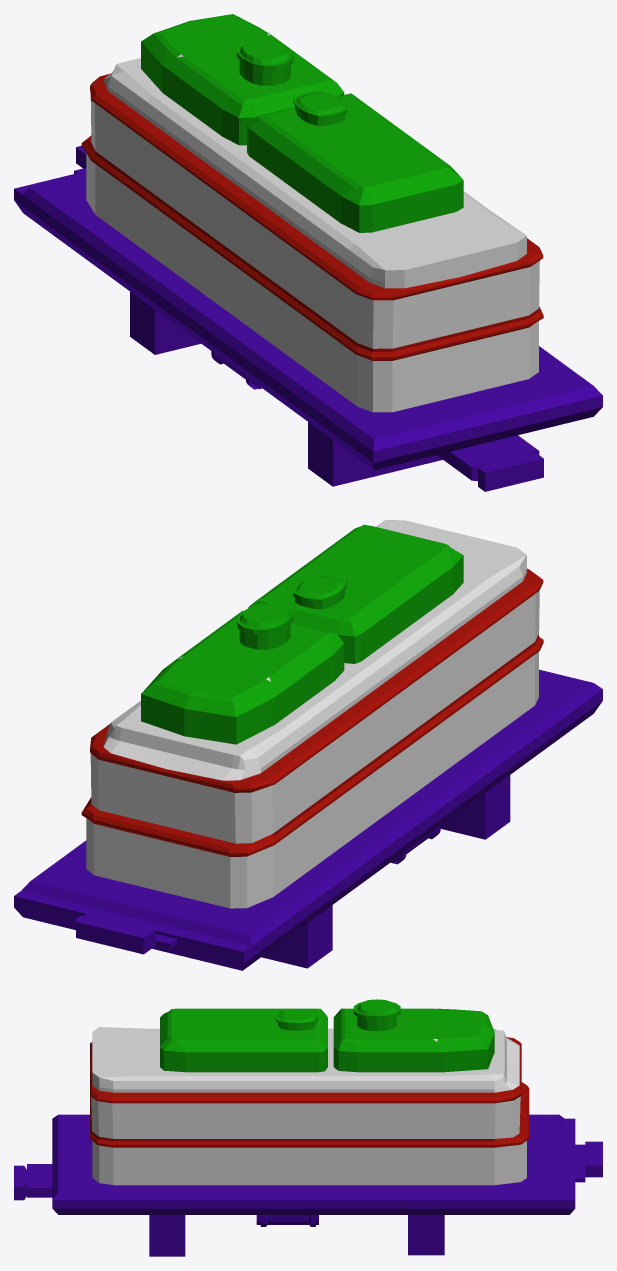
Rendered from train2.fbx.
3 renders of one model, top to bottom at view 1: azimuth 30°, elevation 25°; view 2: azimuth 150°, elevation 25°; view 3: azimuth 270°, elevation 25°, orthographic. The views are drawn at different scales.
Parts seen in each view (by area): view 1: Cab; view 2: Cab; view 3: Cab.
Boxes of the visible parts, x1,y1,x2,y2 form: Cab: (14,14,602,491); Cab: (14,520,602,970); Cab: (14,999,602,1256).
Bounding box in the file's own units: 128 × 160 × 390.
